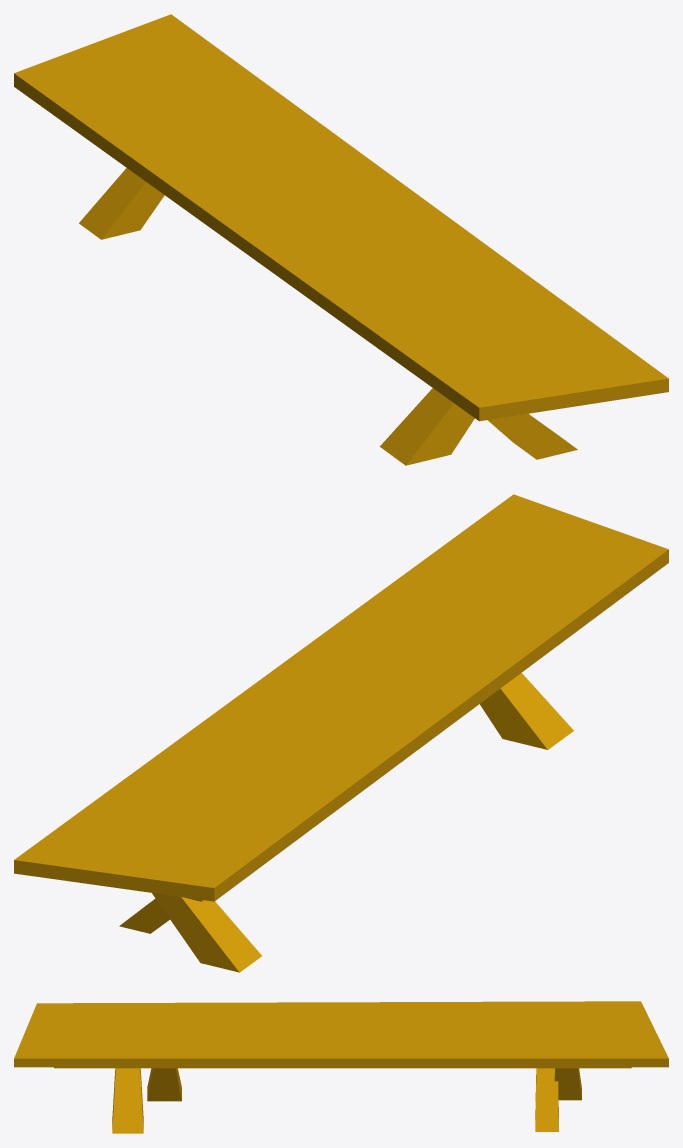
File: Table_02.dae
3 renders of one model, top to bottom at view 1: azimuth 30°, elevation 25°; view 2: azimuth 150°, elevation 25°; view 3: azimuth 270°, elevation 25°, orthographic. The views are drawn at different scales.
Parts seen in each view (by area): view 1: Cylinder_001; view 2: Cylinder_001; view 3: Cylinder_001.
Boxes of the visible parts, <box> form: Cylinder_001: <box>14,14,668,465</box>; Cylinder_001: <box>14,494,668,972</box>; Cylinder_001: <box>14,1001,668,1133</box>.
Size of the model in its own units: 18.52 by 89.5 by 12.1.
